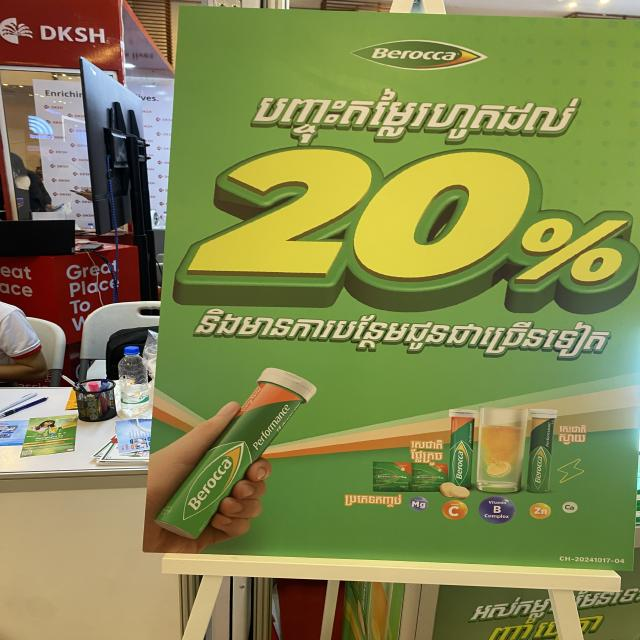136: (569, 553, 627, 566)
639: (161, 147, 561, 303)
Yolov11_80vkh: (175, 305, 627, 362), (229, 85, 594, 146), (492, 209, 639, 310), (465, 593, 555, 626), (569, 587, 639, 612), (336, 490, 407, 512), (409, 448, 447, 467), (408, 438, 448, 451), (554, 432, 588, 447), (555, 424, 589, 434)
